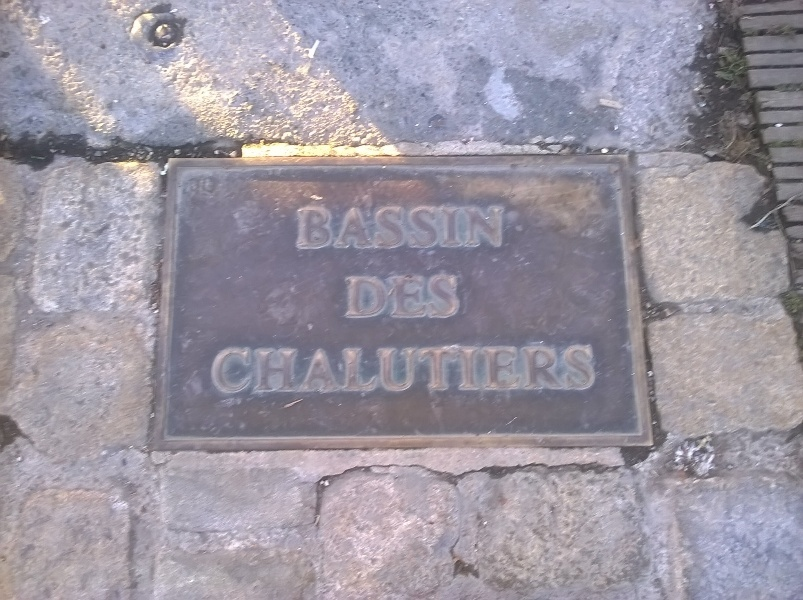text: (225, 344, 240, 394), (241, 344, 256, 394), (257, 344, 272, 394), (273, 344, 288, 394), (289, 344, 304, 394), (305, 344, 320, 394), (321, 344, 336, 394), (337, 344, 352, 394), (353, 344, 368, 394), (369, 344, 384, 394), (385, 344, 400, 394), (401, 344, 416, 394), (417, 344, 432, 394), (433, 344, 448, 394), (449, 344, 464, 394), (465, 344, 480, 394), (481, 344, 496, 394), (497, 344, 512, 394), (513, 344, 528, 394), (529, 344, 544, 394), (545, 344, 560, 394), (561, 344, 576, 394), (577, 344, 592, 394), (353, 275, 368, 320), (369, 275, 384, 320), (385, 275, 400, 320), (401, 275, 416, 320), (417, 275, 432, 320), (433, 275, 448, 320), (305, 206, 320, 250), (321, 206, 336, 250), (337, 206, 352, 250), (353, 206, 368, 250), (369, 206, 384, 250), (385, 206, 400, 250), (401, 206, 416, 250), (417, 206, 432, 250), (433, 206, 448, 250), (449, 206, 464, 250), (465, 206, 480, 250), (481, 206, 496, 250), (212, 344, 224, 394), (449, 275, 460, 320), (497, 206, 505, 250), (345, 275, 352, 320), (297, 206, 304, 250), (593, 344, 597, 394)
